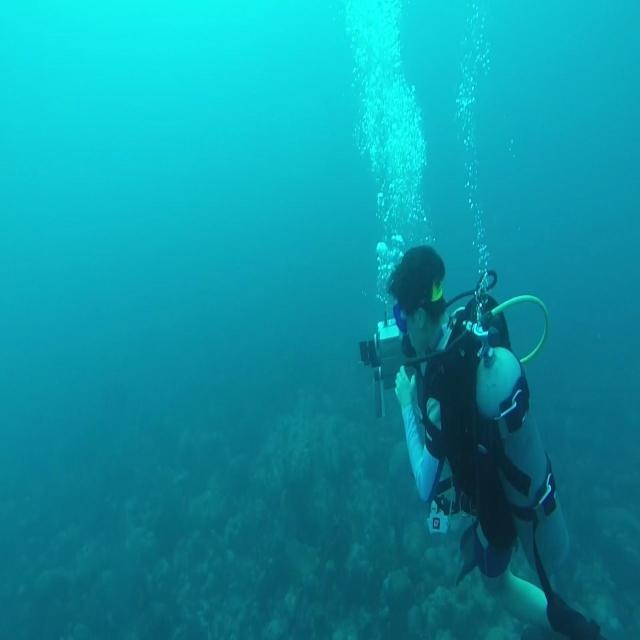human: (386, 244, 603, 638)
